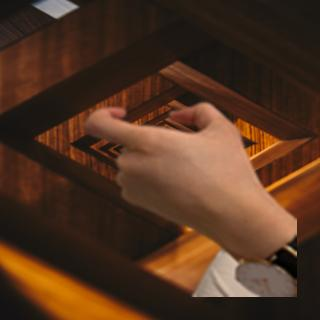HATE: (77, 96, 266, 240)
